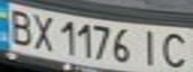1: (54, 18, 78, 55), (72, 20, 93, 58)
6: (109, 25, 136, 64)
7: (90, 22, 115, 61)
B: (3, 7, 36, 46)
C: (157, 29, 193, 70)
I: (136, 27, 163, 69)
X: (27, 11, 57, 52)
